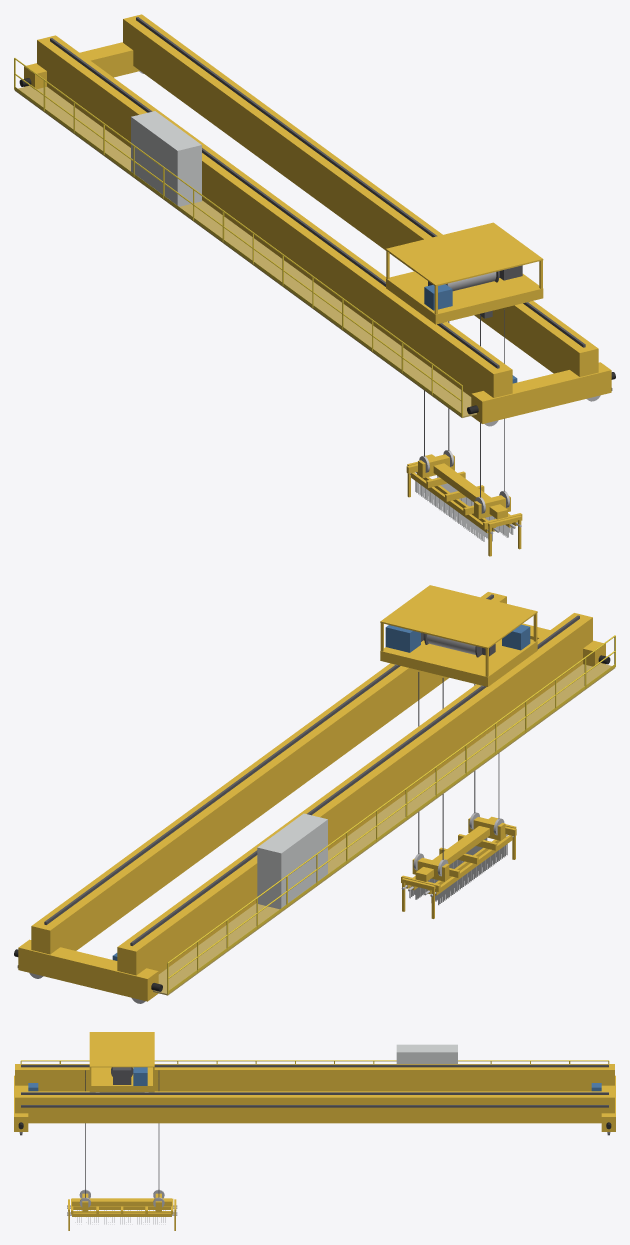
The model's file is SM_TankhouseCrane.fbx.
3 views of the same model, one above another, from view 1: azimuth 30°, elevation 25°; view 2: azimuth 150°, elevation 25°; view 3: azimuth 270°, elevation 25° (orthographic). The views are drawn at different scales.
Parts seen in each view (by area): view 1: TC_Bridge, TC_Trolley, TC_Bale, TC_AnodeHooks; view 2: TC_Bridge, TC_Trolley, TC_Bale, TC_AnodeHooks, TC_Ropes, TC_HoistDrum; view 3: TC_Bridge, TC_Trolley, TC_Bale, TC_Ropes.
Part boxes in pixels (x1,y1,x2,y2): TC_Bridge: [14, 14, 615, 426]; TC_Trolley: [386, 222, 543, 324]; TC_Bale: [406, 450, 522, 556]; TC_AnodeHooks: [415, 481, 513, 541]; TC_Bridge: [14, 592, 615, 1003]; TC_Trolley: [380, 585, 537, 686]; TC_Bale: [401, 812, 516, 918]; TC_AnodeHooks: [409, 844, 507, 905]; TC_Ropes: [418, 672, 499, 859]; TC_HoistDrum: [424, 633, 481, 657]; TC_Bridge: [14, 1044, 615, 1135]; TC_Trolley: [89, 1032, 154, 1092]; TC_Bale: [67, 1189, 177, 1230]; TC_Ropes: [85, 1070, 159, 1197].
Size of the model in its own units: 567 by 955 by 2950.
